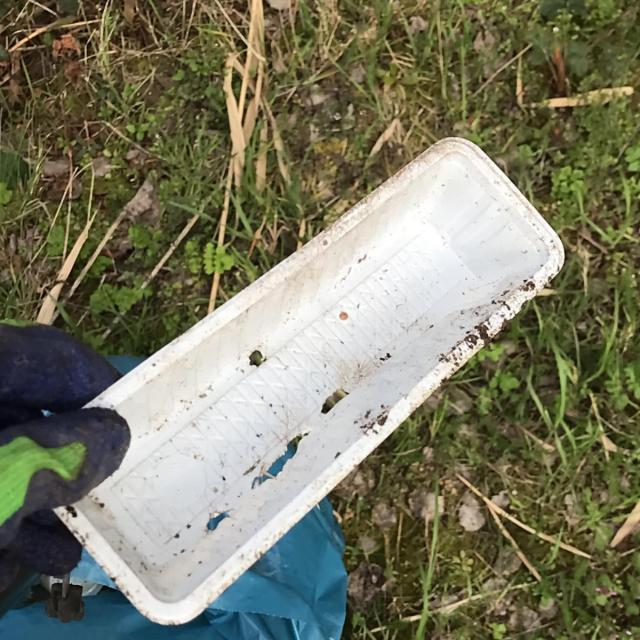Plastic: (46, 133, 564, 628)
